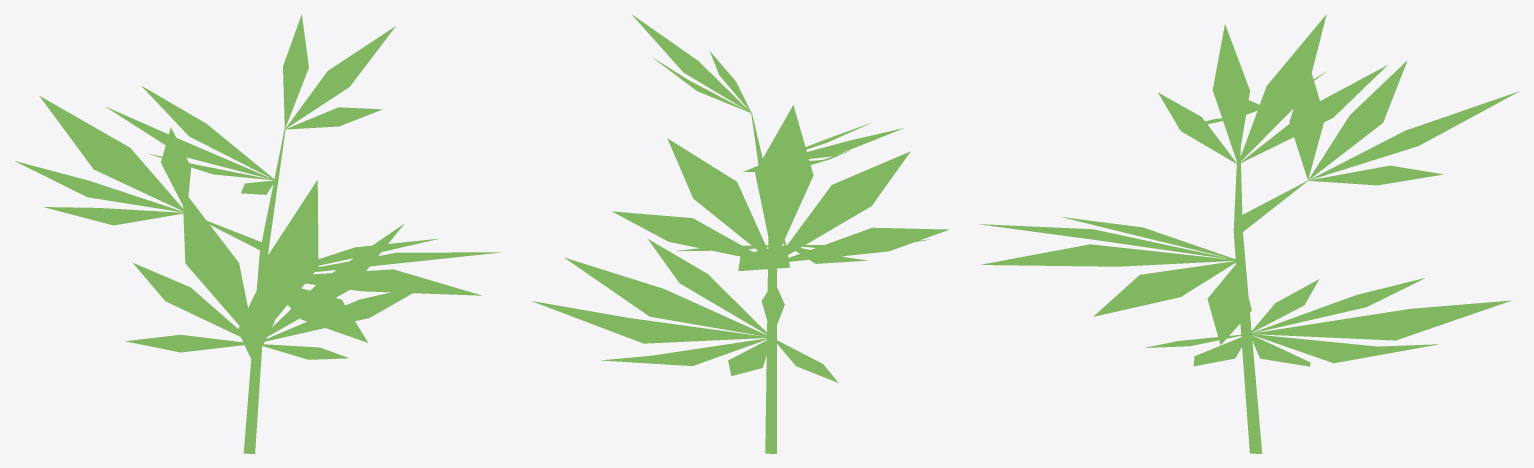
Rendered from Plant_i_TwoS_06.fbx.
3 renders of one model, left to right at view 1: azimuth 30°, elevation 25°; view 2: azimuth 150°, elevation 25°; view 3: azimuth 270°, elevation 25°, orthographic. The views are drawn at different scales.
Parts seen in each view (by area): view 1: Plant_i_TwoS_06; view 2: Plant_i_TwoS_06; view 3: Plant_i_TwoS_06.
Part boxes in pixels (x1,y1,x2,y2): Plant_i_TwoS_06: (15, 14, 501, 453); Plant_i_TwoS_06: (532, 14, 948, 453); Plant_i_TwoS_06: (979, 14, 1518, 453).
Size of the model in its own units: 0.6994 by 0.7291 by 0.8359.
